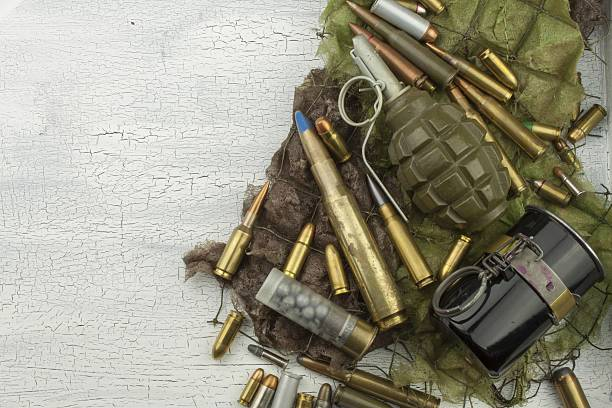e1: (338, 34, 514, 235)
